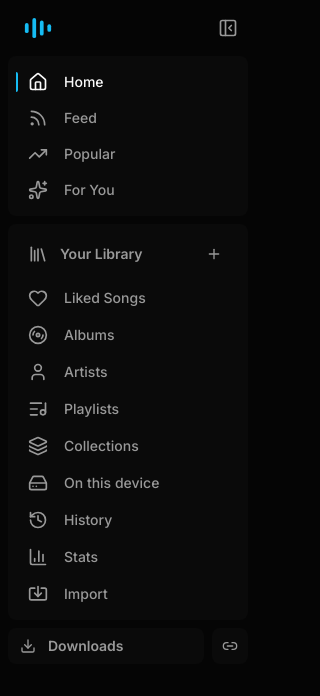
Test: collapsing narrows the rail and hides text labels
Click the button named "Expand sidebar" at (228,28), box top-left (212, 12), bottom-right (244, 44)
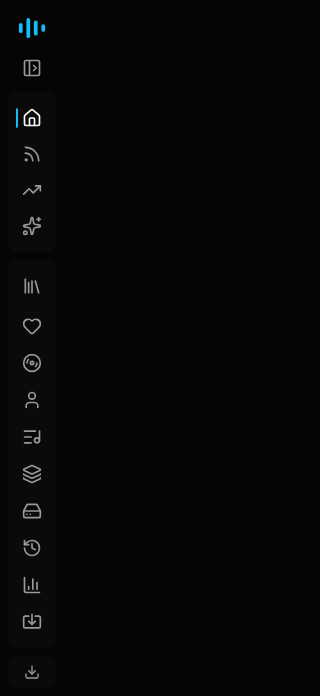
Result: the text "Your Library" is gone
Result: the text "Downloads" is gone
